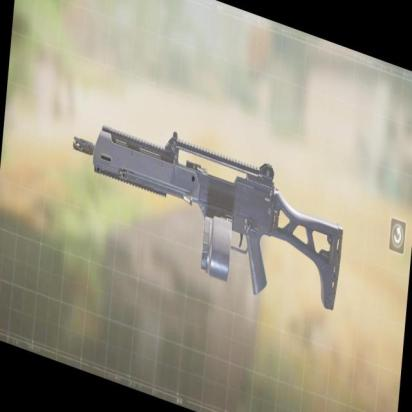Gun: (65, 100, 354, 352)
